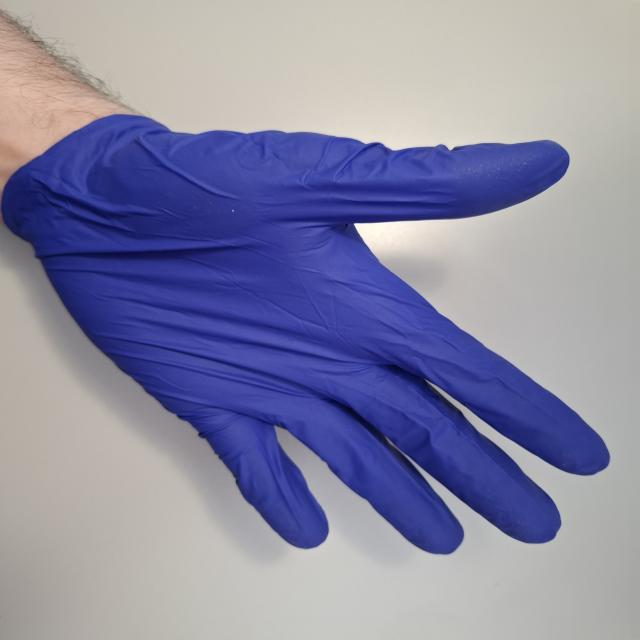glove_on: (4, 108, 617, 558)
